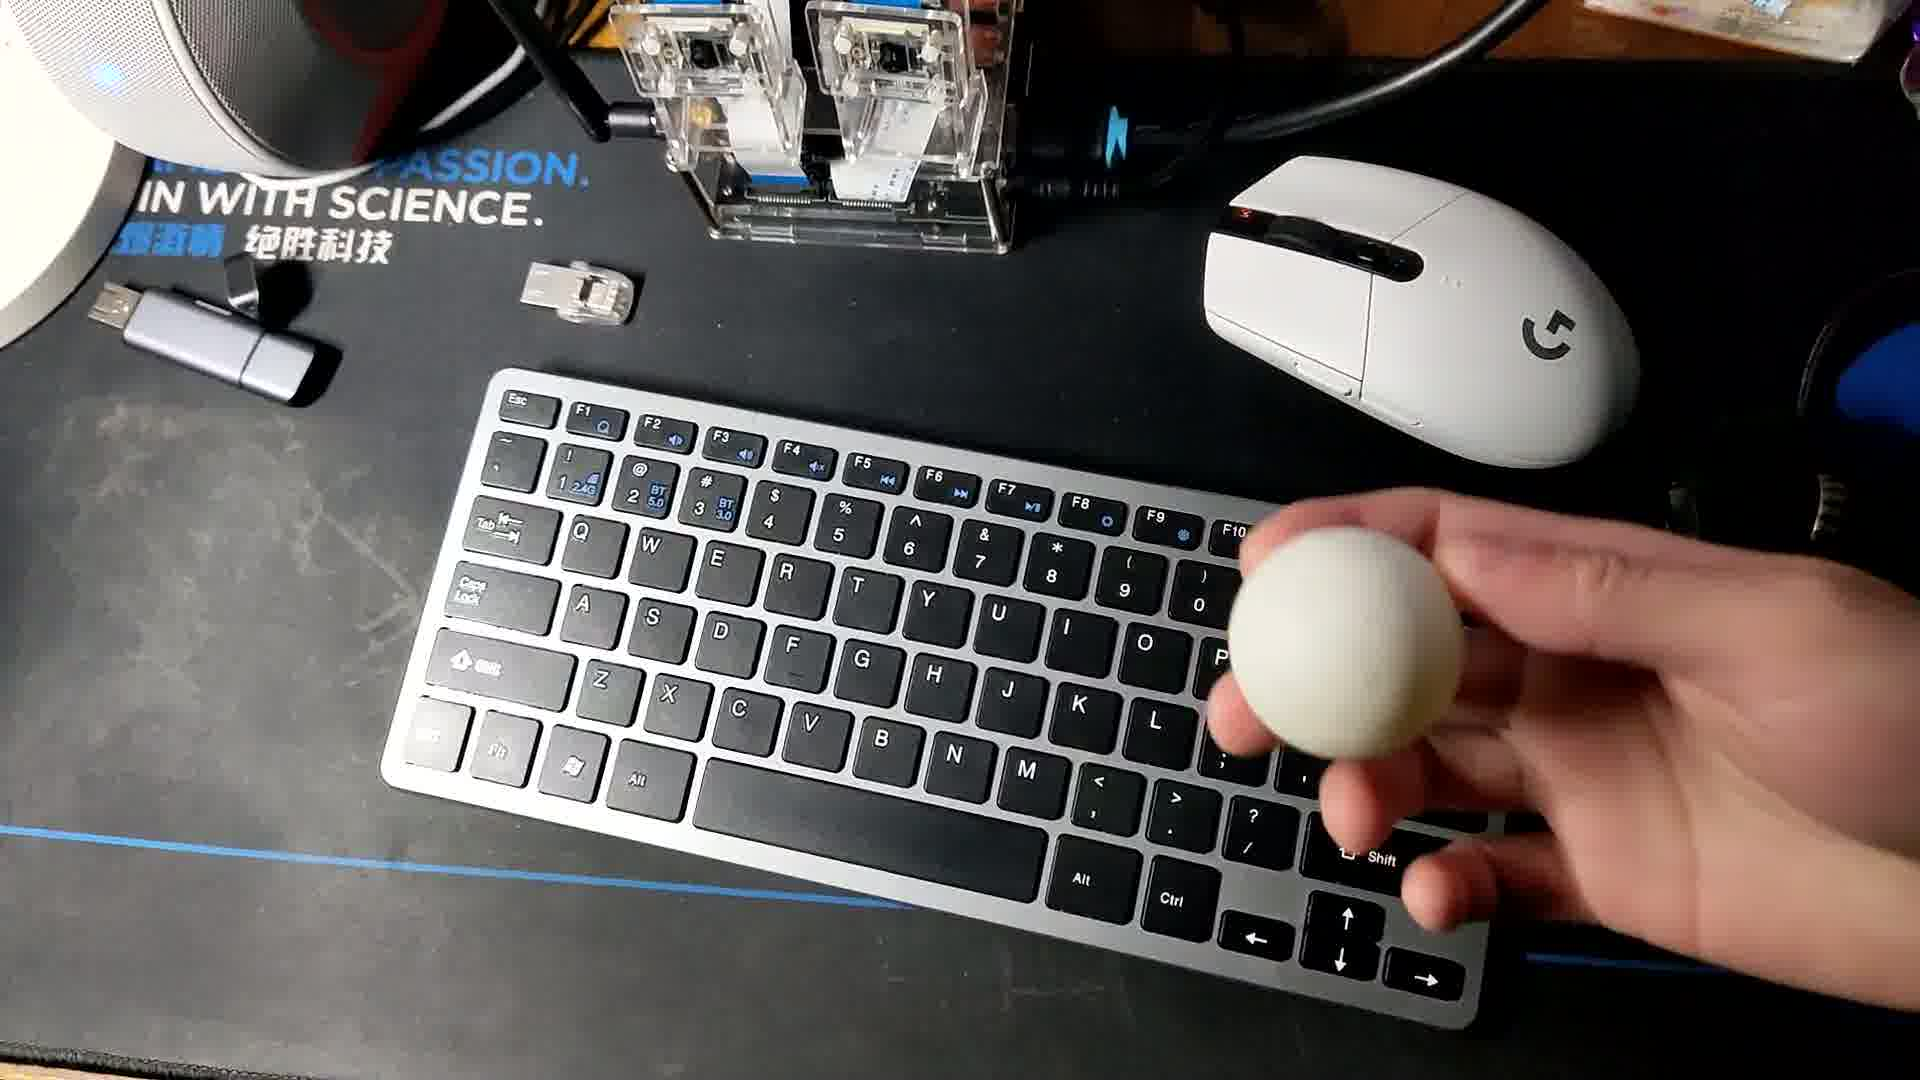Ball: (1233, 526, 1461, 753)
